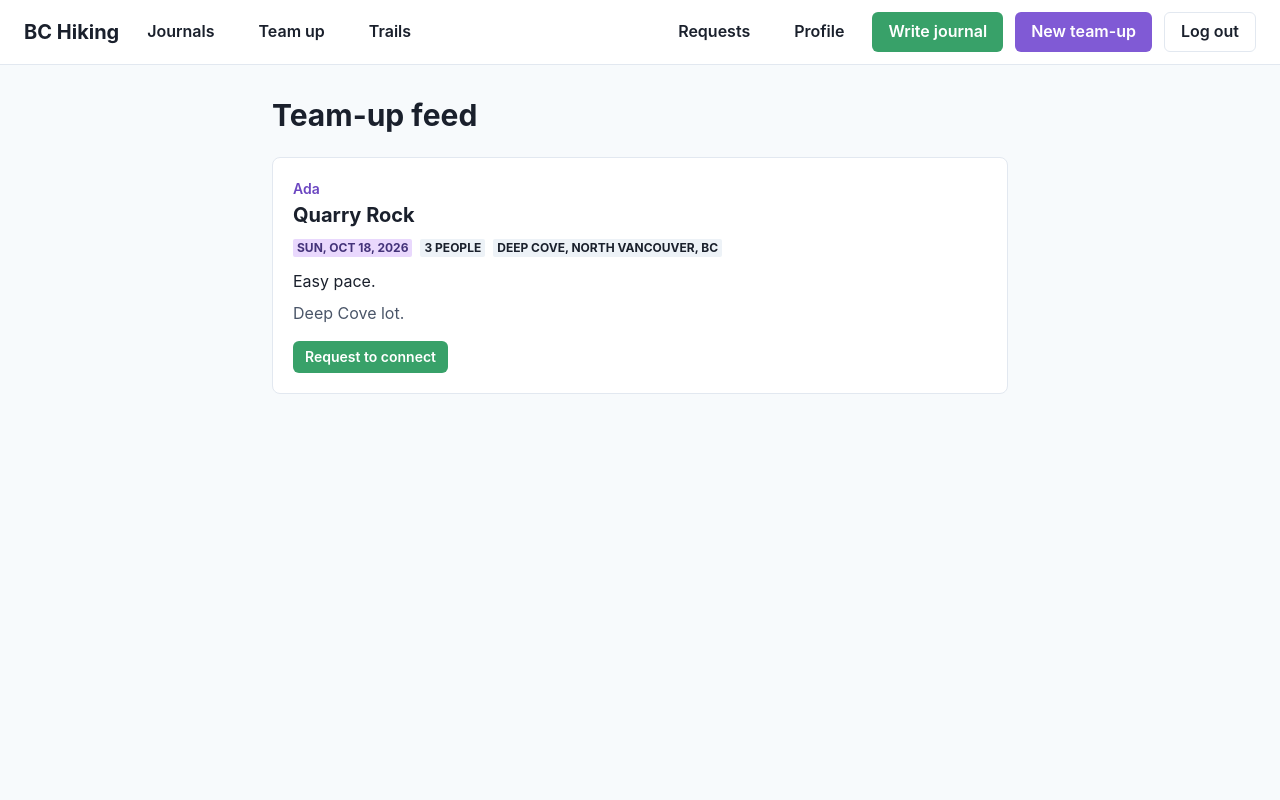
Test case: shows a team-up request and connects to that hiker
Expected: the heading "Quarry Rock" is shown, [293,203,415,227]
Expected: the text "Easy pace." is shown, [293,271,376,291]
Click the button "Request to connect".
click(370, 357)  # box [293,341,448,373]
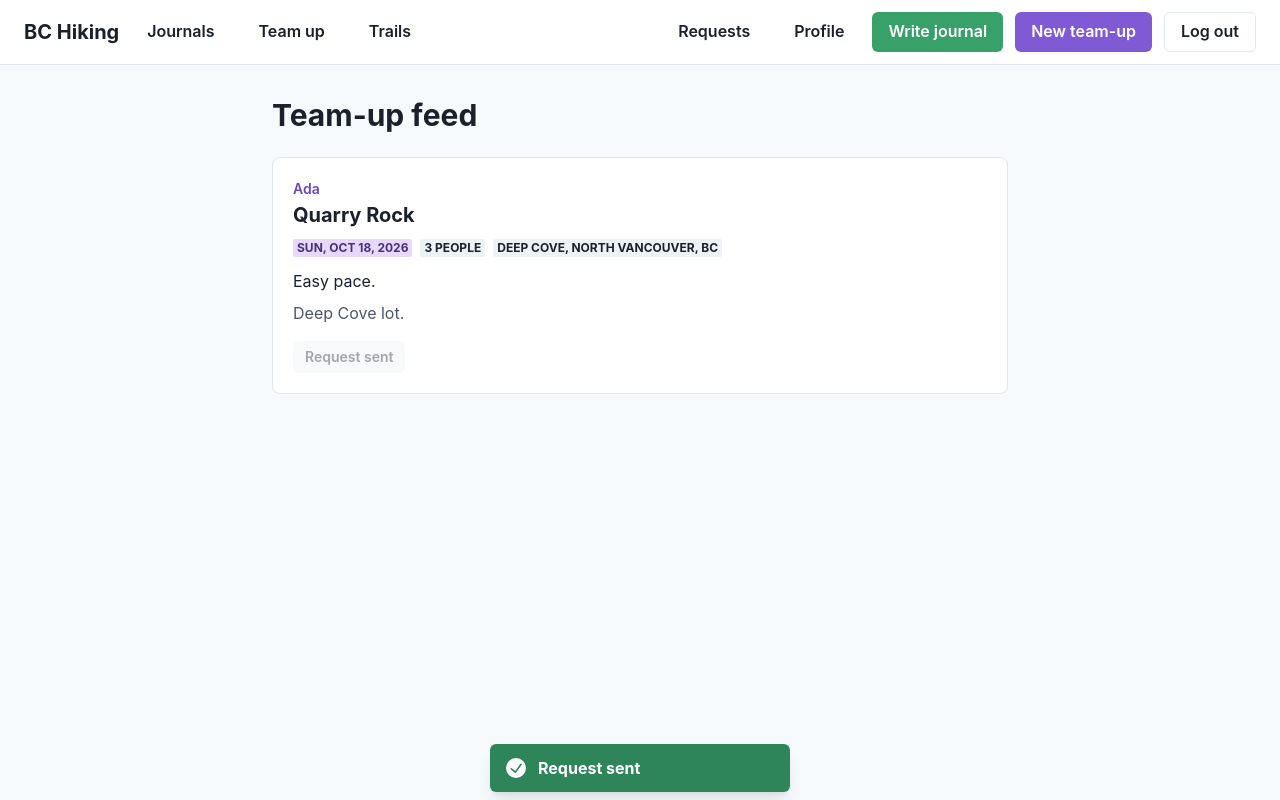
Expected: the button "Request sent" is disabled, [293,341,406,373]
